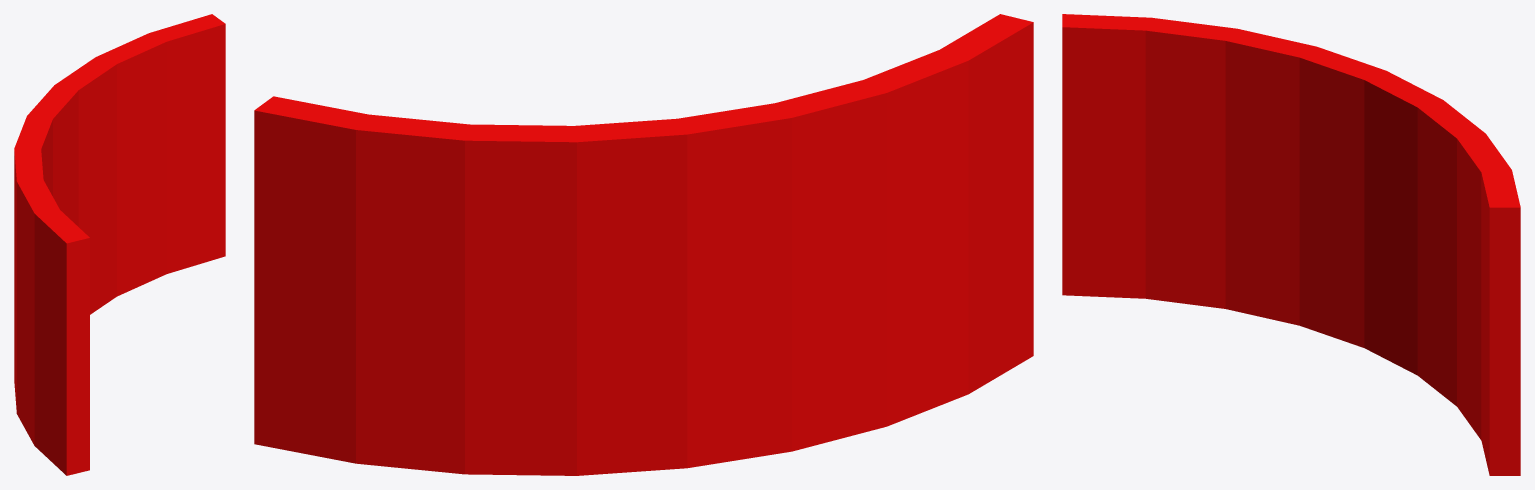
Rendered from WallBow.glb.
The picture shows the model from 3 angles, left to right: view 1: azimuth 30°, elevation 25°; view 2: azimuth 150°, elevation 25°; view 3: azimuth 270°, elevation 25°; orthographic projection. The views are drawn at different scales.
Parts seen in each view (by area): view 1: Cylinder; view 2: Cylinder; view 3: Cylinder.
Boxes of the visible parts, x1,y1,x2,y2 form: Cylinder: [14, 14, 225, 475]; Cylinder: [254, 14, 1033, 475]; Cylinder: [1062, 14, 1520, 475].
Size of the model in its own units: 6.2 by 4 by 6.2.
